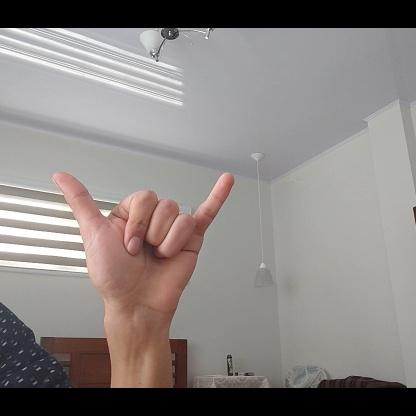Y: (49, 166, 238, 319)
